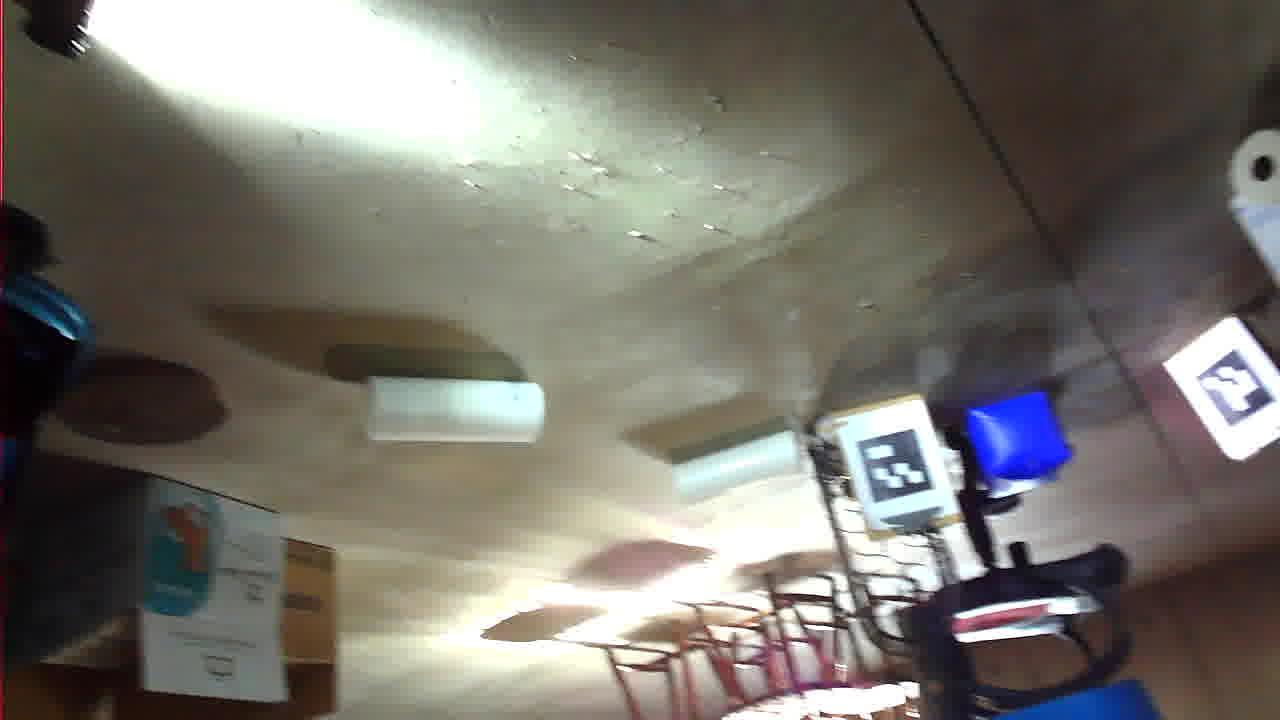coral: (735, 279, 914, 343), (480, 215, 603, 287)
